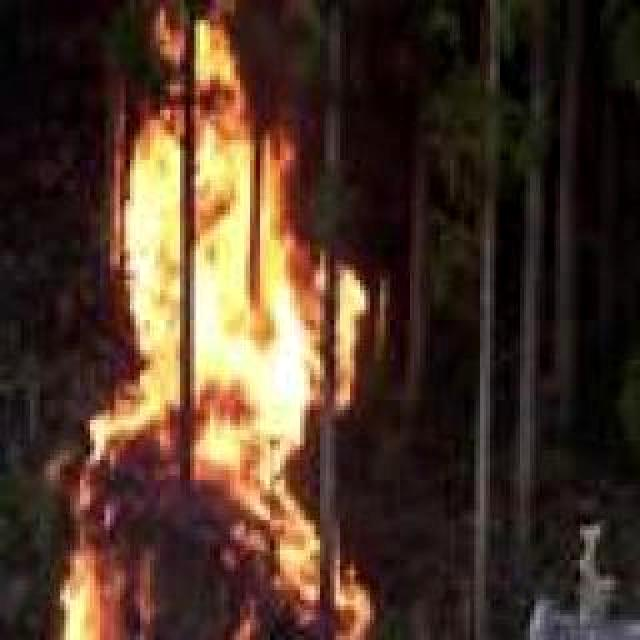fire: (6, 0, 374, 640)
